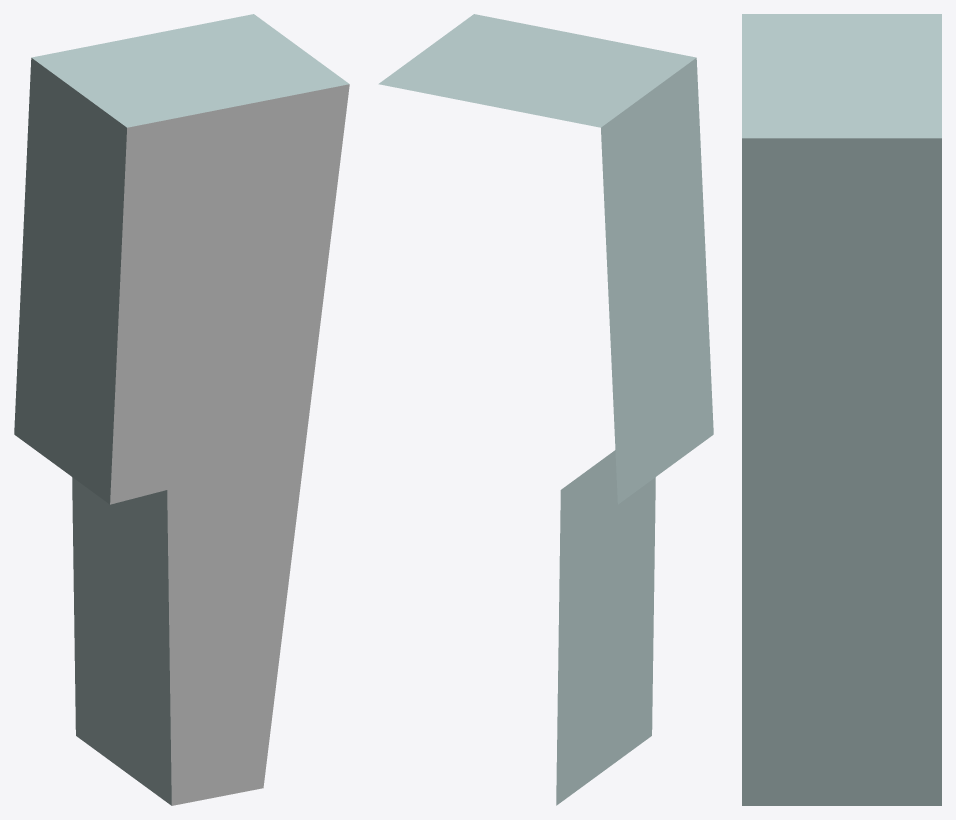
3 renders of one model, left to right at view 1: azimuth 30°, elevation 25°; view 2: azimuth 150°, elevation 25°; view 3: azimuth 270°, elevation 25°, orthographic. The views are drawn at different scales.
Visible parts, largest first — view 1: 0_3_2_1_1_0_2_3; view 2: 0_3_2_1_1_0_2_3; view 3: 0_3_2_1_1_0_2_3.
Part boxes in pixels (x1,y1,x2,y2): 0_3_2_1_1_0_2_3: (14, 14, 349, 805); 0_3_2_1_1_0_2_3: (378, 14, 713, 805); 0_3_2_1_1_0_2_3: (742, 14, 941, 805).
Bounding box in the file's own units: 4.33 × 11.98 × 3.
